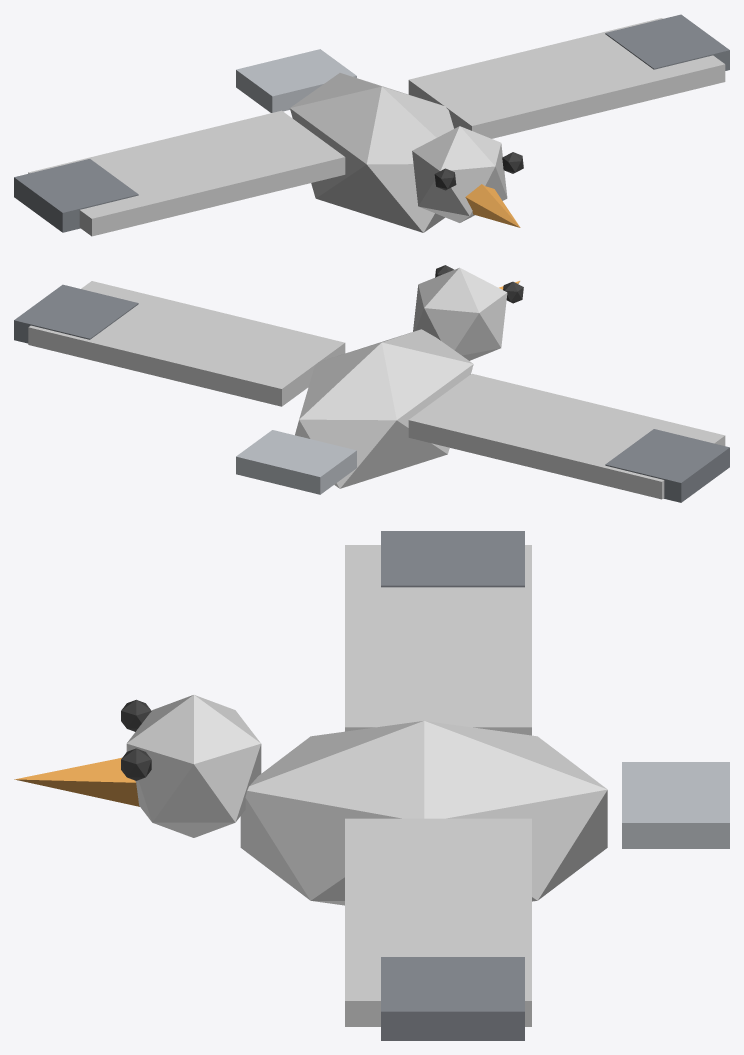
File: Gull.fbx
3 renders of one model, top to bottom at view 1: azimuth 30°, elevation 25°; view 2: azimuth 150°, elevation 25°; view 3: azimuth 270°, elevation 25°, orthographic. The views are drawn at different scales.
Parts seen in each view (by area): view 1: Body, Limb_WingL, Limb_WingR; view 2: Body, Limb_WingL, Limb_WingR; view 3: Body, Limb_WingR, Limb_WingL.
Boxes of the visible parts, left/top/right/bottom form: Body: left=236, top=49, right=523, bottom=232; Limb_WingL: left=14, top=110, right=345, bottom=236; Limb_WingR: left=408, top=14, right=729, bottom=138; Body: left=236, top=265, right=523, bottom=494; Limb_WingL: left=408, top=373, right=729, bottom=502; Limb_WingR: left=14, top=281, right=345, bottom=406; Body: left=14, top=695, right=729, bottom=905; Limb_WingR: left=345, top=818, right=531, bottom=1040; Limb_WingL: left=345, top=531, right=531, bottom=735.
Size of the model in its own units: 1.58 by 0.34 by 0.995.
